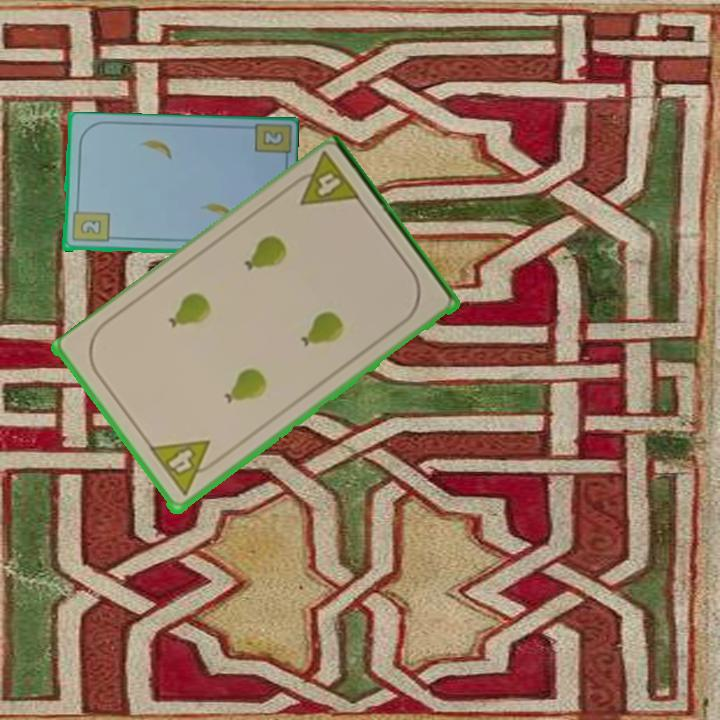2b: (69, 202, 111, 245), (261, 129, 284, 147)
4p: (147, 436, 224, 500), (284, 150, 365, 210)
